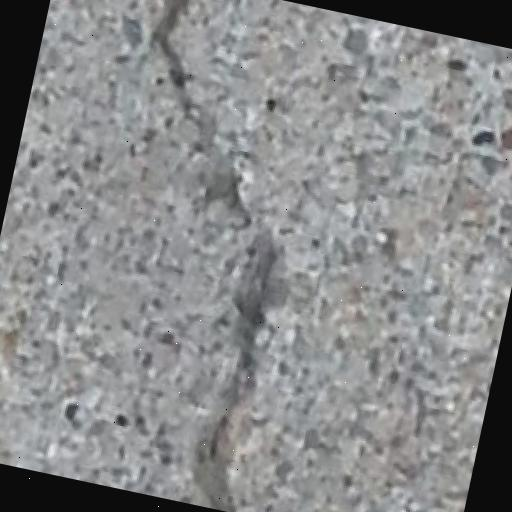spalling: (121, 0, 316, 512)
